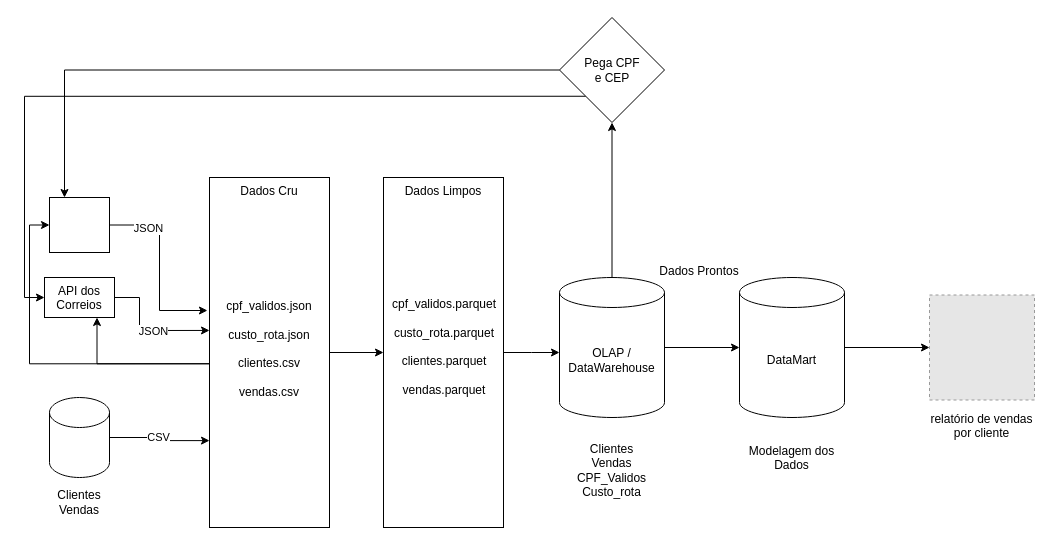
This 1052x545 diagram has some shape labels left out. Grey dashed boxes stand in for pictures. The shapes that lost their labels are listed below. From the top down, each one's centre as x and y in pixels, then its label:
At [79,224]: "API Receita Federal".
At [79,437]: "OLTP".
